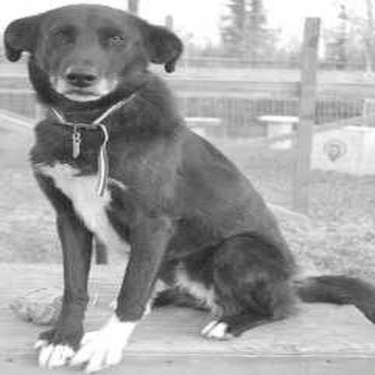dog: (2, 1, 370, 371)
